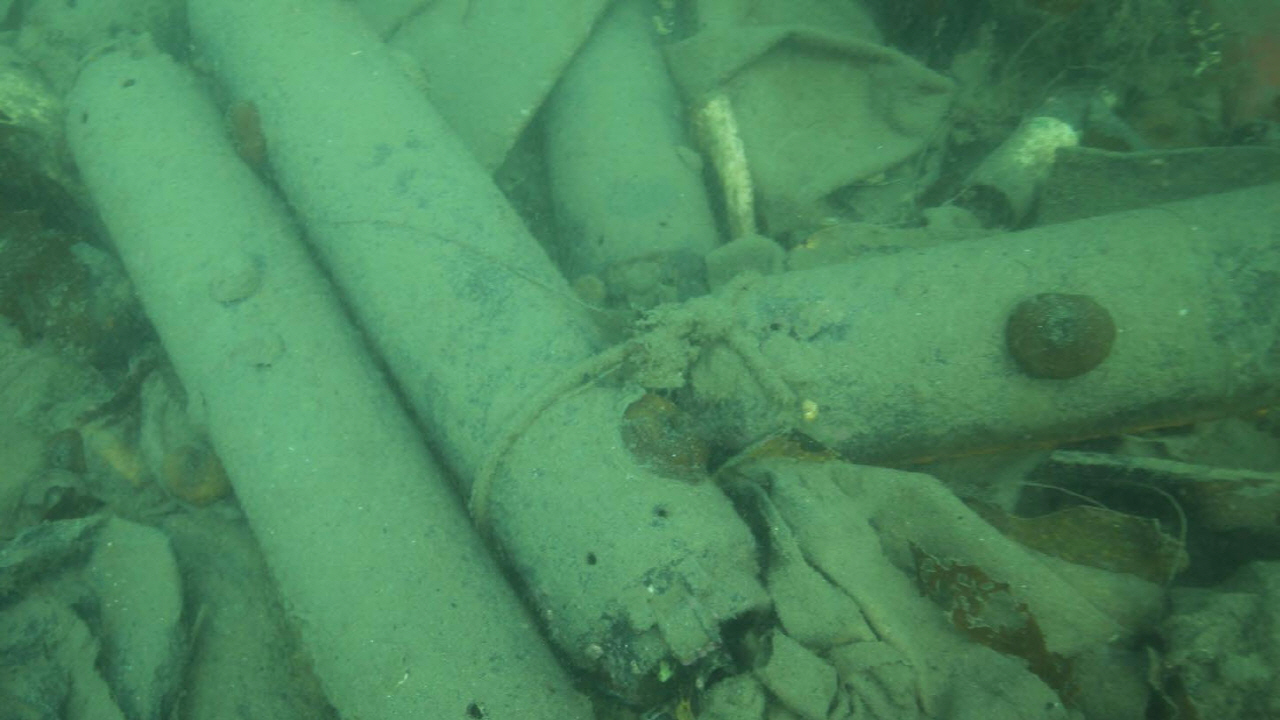bundle of ropes: (461, 263, 796, 525)
eel fish trap: (188, 0, 776, 704), (62, 35, 590, 719), (689, 183, 1280, 454)
other objects: (715, 426, 1160, 680)
